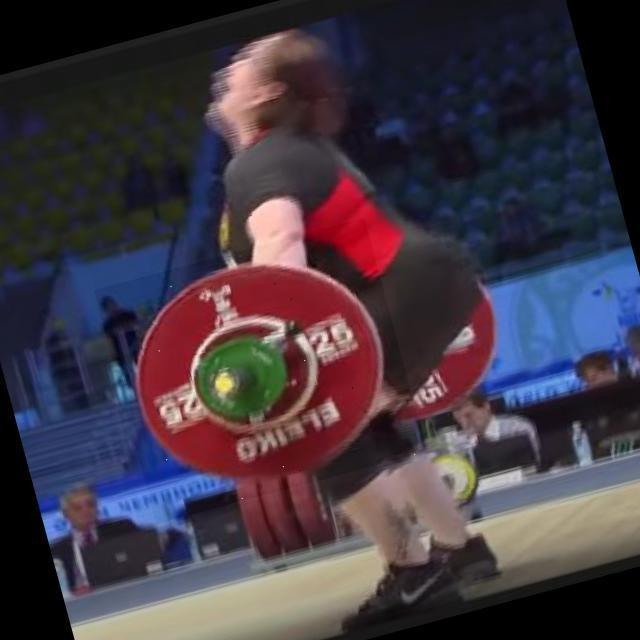barbell: (95, 219, 428, 525)
